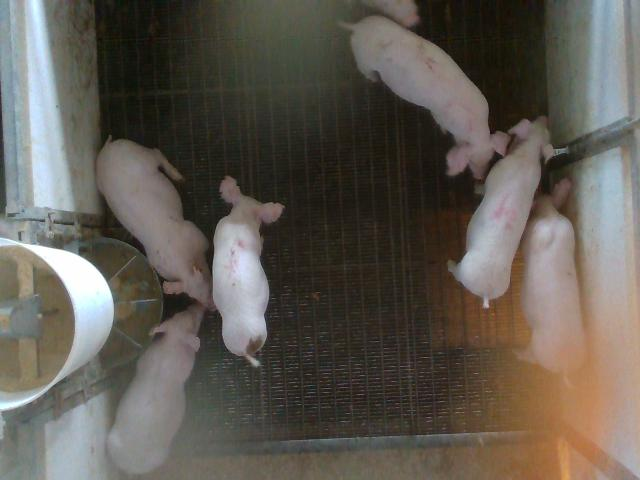pig-4: (449, 118, 554, 308)
pig-5: (212, 176, 284, 366)
